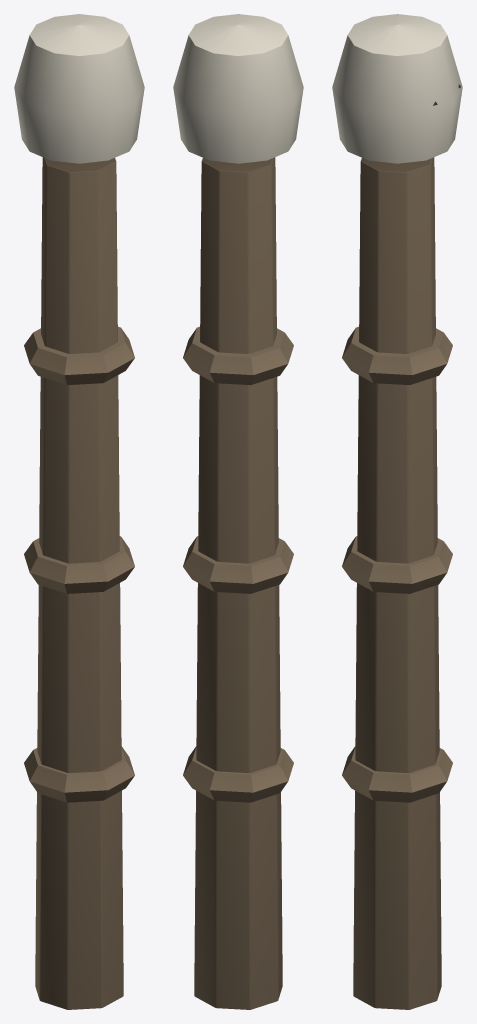
The model's file is skullpost.glb.
3 renders of one model, left to right at view 1: azimuth 30°, elevation 25°; view 2: azimuth 150°, elevation 25°; view 3: azimuth 330°, elevation 25°, orthographic.
Visible parts, largest first — view 1: boat_bark, boat_bone; view 2: boat_bark, boat_bone; view 3: boat_bark, boat_bone.
Boxes of the visible parts, x1,y1,x2,y2 form: boat_bark: (24, 157, 134, 1009); boat_bone: (14, 14, 144, 163); boat_bark: (183, 157, 293, 1009); boat_bone: (173, 14, 303, 163); boat_bark: (342, 157, 452, 1009); boat_bone: (332, 14, 462, 163).
Bounding box in the file's own units: 0.34 × 2.78 × 0.34.
